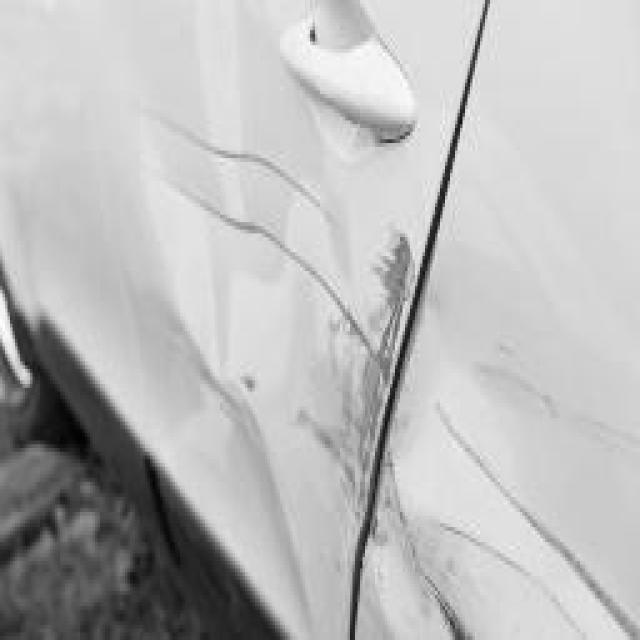Door: (70, 26, 622, 636)
